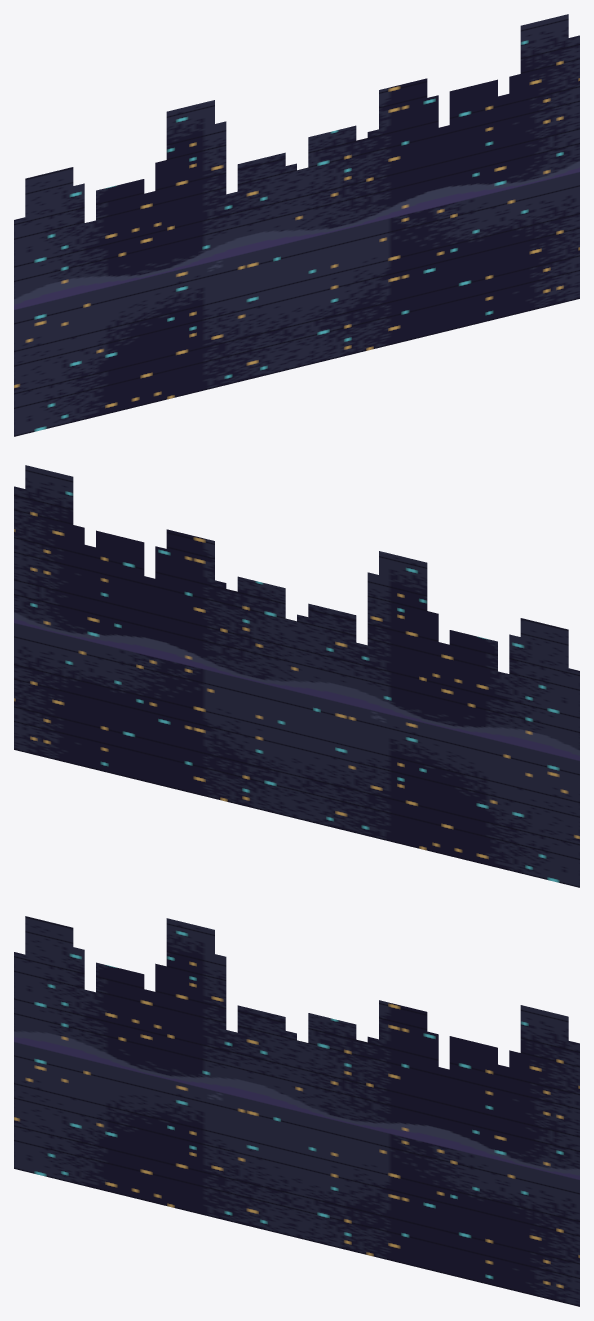
Rendered from cysky.stepped__low.glb.
3 views of the same model, one above another, from view 1: azimuth 30°, elevation 25°; view 2: azimuth 150°, elevation 25°; view 3: azimuth 330°, elevation 25° (orthographic).
Visible parts, largest first — view 1: kit_card_skyline; view 2: kit_card_skyline; view 3: kit_card_skyline.
Part boxes in pixels (bbox=[...]): kit_card_skyline: bbox=[14, 14, 579, 436]; kit_card_skyline: bbox=[14, 465, 579, 887]; kit_card_skyline: bbox=[14, 916, 579, 1306].
Size of the model in its own units: 56 by 27.23 by 0.
1 material, 1 textured.
